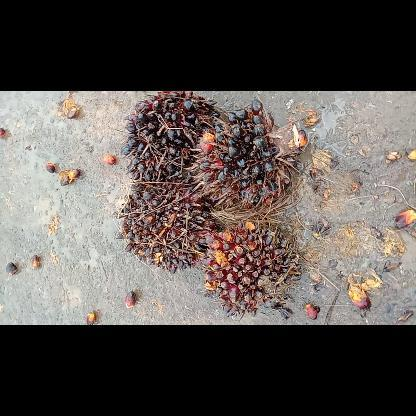TBS abnormal: (186, 99, 308, 213), (121, 93, 228, 185)
TBS masak: (205, 218, 304, 322), (116, 177, 218, 271)
